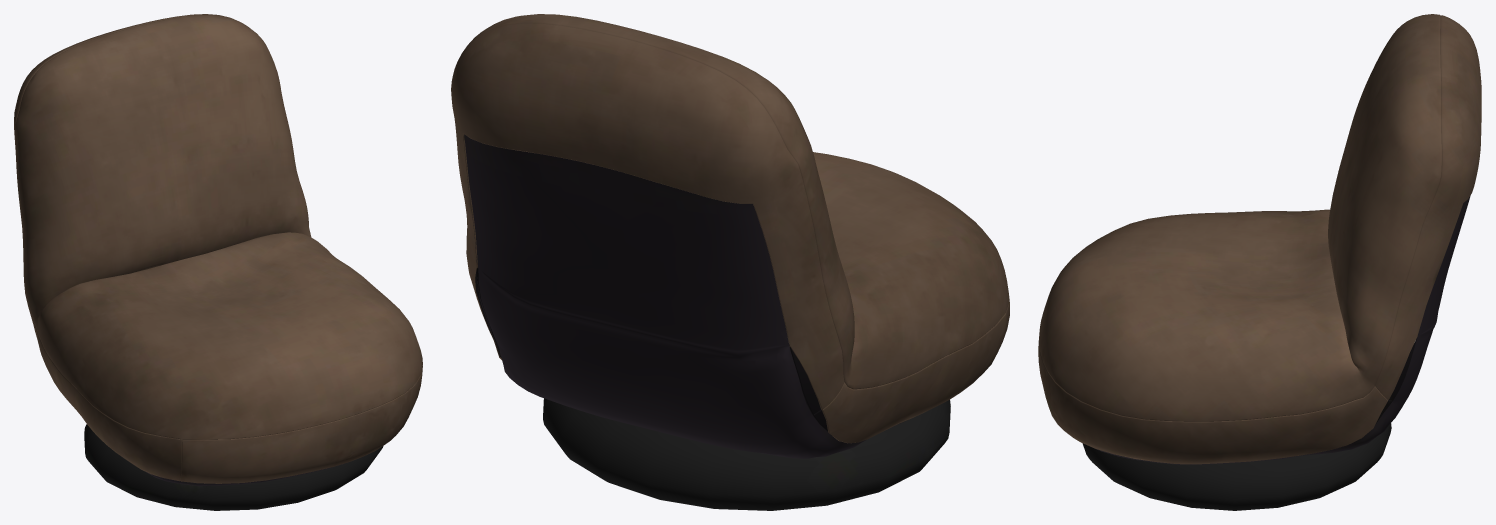
Rendered from B07NS3QCJH.glb.
3 renders of one model, left to right at view 1: azimuth 30°, elevation 25°; view 2: azimuth 150°, elevation 25°; view 3: azimuth 270°, elevation 25°, orthographic. The views are drawn at different scales.
Parts seen in each view (by area): view 1: RootNode; view 2: RootNode; view 3: RootNode.
Boxes of the visible parts, x1,y1,x2,y2 form: RootNode: [14, 14, 422, 510]; RootNode: [451, 14, 1009, 510]; RootNode: [1038, 14, 1481, 510].
Bounding box in the file's own units: 0.5207 × 0.5935 × 0.5969.
1 material, 1 textured.
